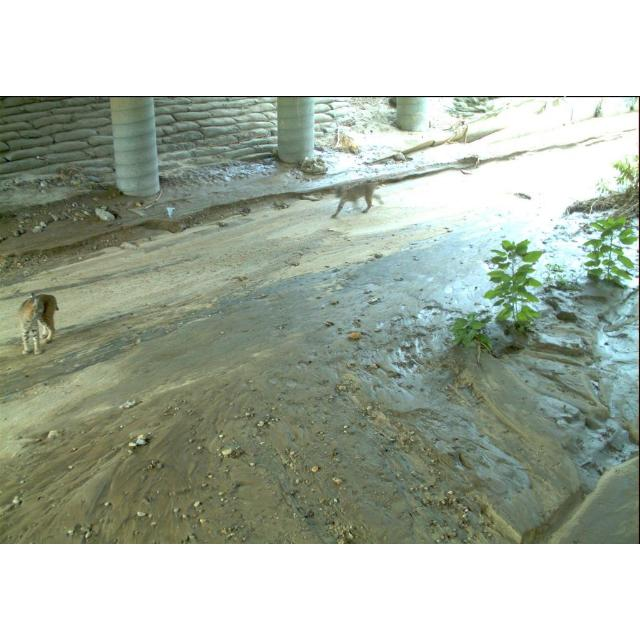animals: (18, 292, 62, 356), (331, 179, 383, 219)
